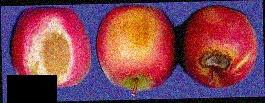red apple: (96, 5, 177, 93)
rotten apple: (8, 7, 94, 95), (181, 6, 258, 90)
